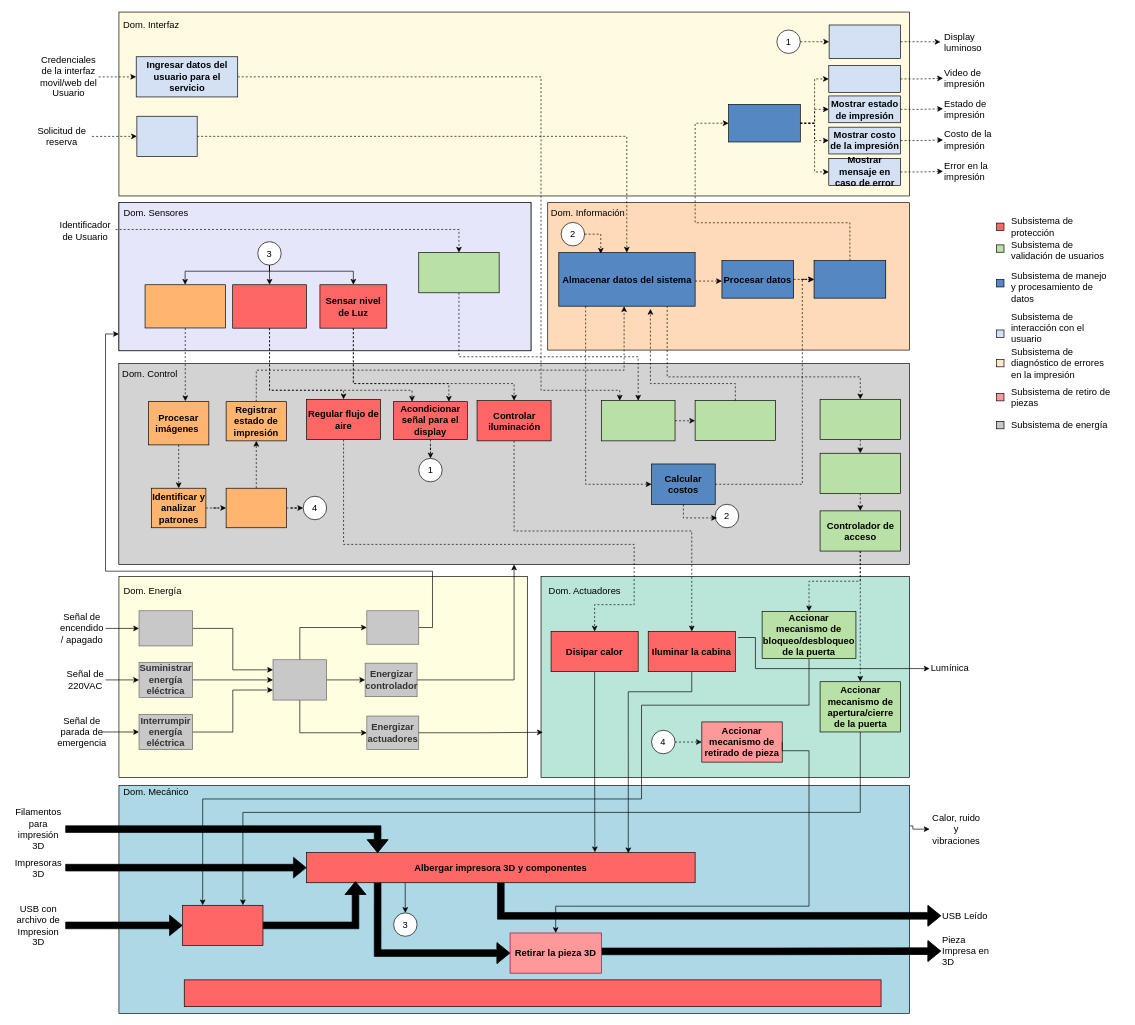
The diagram is 1135 pixels wide and 1025 high, and some of its shapes have lost their labels. The shapes that lost their labels are listed below. From the top down, each one's centre as x and y in pixels, then its label:
[864,41]: Actualizar Display digital fisico
[864,78]: Mostrar video de impresión
[166,136]: Recibir solicitud de reserva
[764,123]: Recibir información
[458,272]: Capturar los Datos Usuario
[849,279]: Enviar información
[184,306]: Capturar imagen/video para la inspección visual
[269,306]: Sensar humedad y temperatura
[638,420]: Procesar Datos del Usuario
[735,420]: Buscar Usuario en la Base de datos
[859,419]: Validar usuario
[859,473]: Registrar acceso
[255,508]: Diagnosticar estado de impresión
[165,628]: Activar alimentación eléctrica
[392,627]: Energizar sensores
[299,679]: Acondicionar energía
[222,925]: Permitir acceso a la impresora
[532,993]: Sujetar/soportar la cúpula
